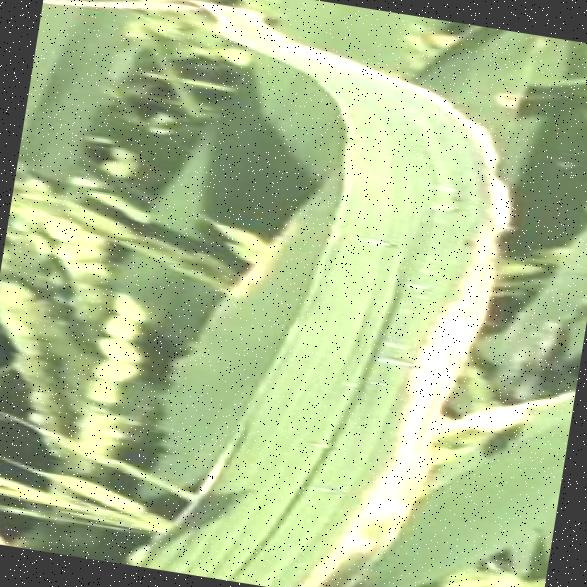Bacteria_Leaf_Blight: (246, 93, 508, 574)
